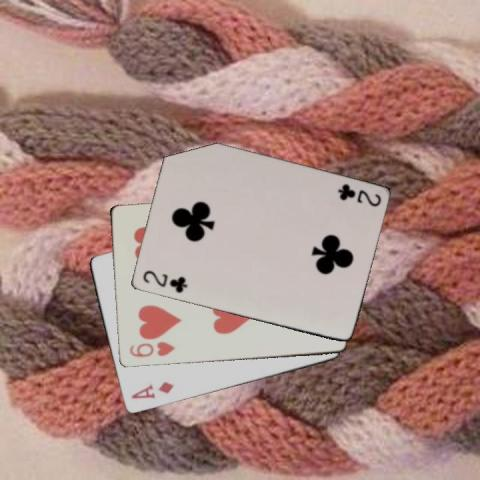2c: (139, 267, 188, 295), (334, 180, 383, 208)
6h: (126, 340, 176, 360)
Ad: (128, 378, 175, 400)
